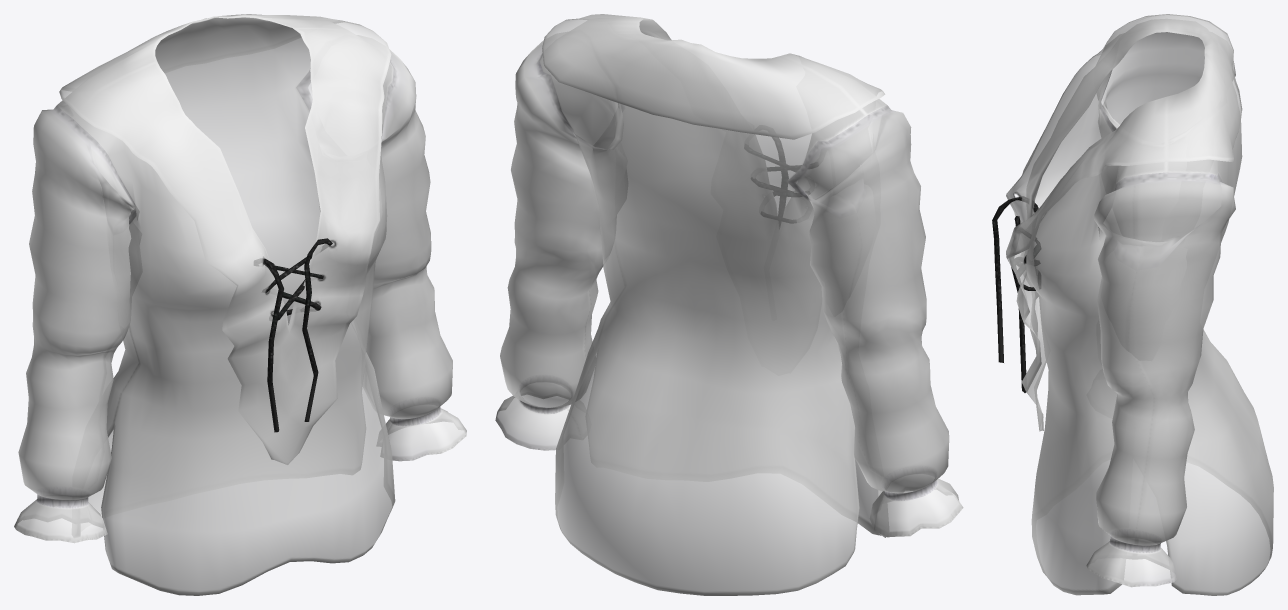
File: punkduck-lace-up-blouse.glb
3 views of the same model, side by side, from view 1: azimuth 30°, elevation 25°; view 2: azimuth 150°, elevation 25°; view 3: azimuth 270°, elevation 25° (orthographic). The views are drawn at different scales.
Parts seen in each view (by area): view 1: Human.punkduck_lace_up_blouse; view 2: Human.punkduck_lace_up_blouse; view 3: Human.punkduck_lace_up_blouse.
Part boxes in pixels (x1,y1,x2,y2): Human.punkduck_lace_up_blouse: (14, 14, 466, 595); Human.punkduck_lace_up_blouse: (495, 14, 963, 595); Human.punkduck_lace_up_blouse: (992, 14, 1273, 595).
Bounding box in the file's own units: 0.5657 × 0.6232 × 0.3188.
1 material, 1 textured.
